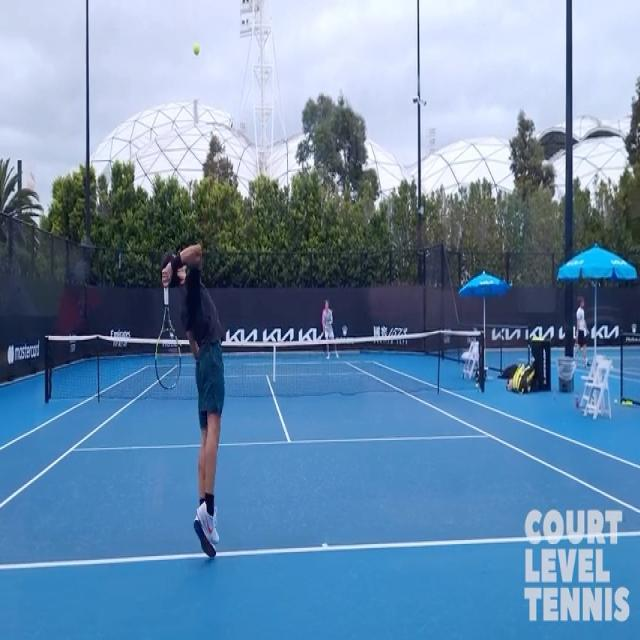serve_hit: (146, 246, 231, 573)
